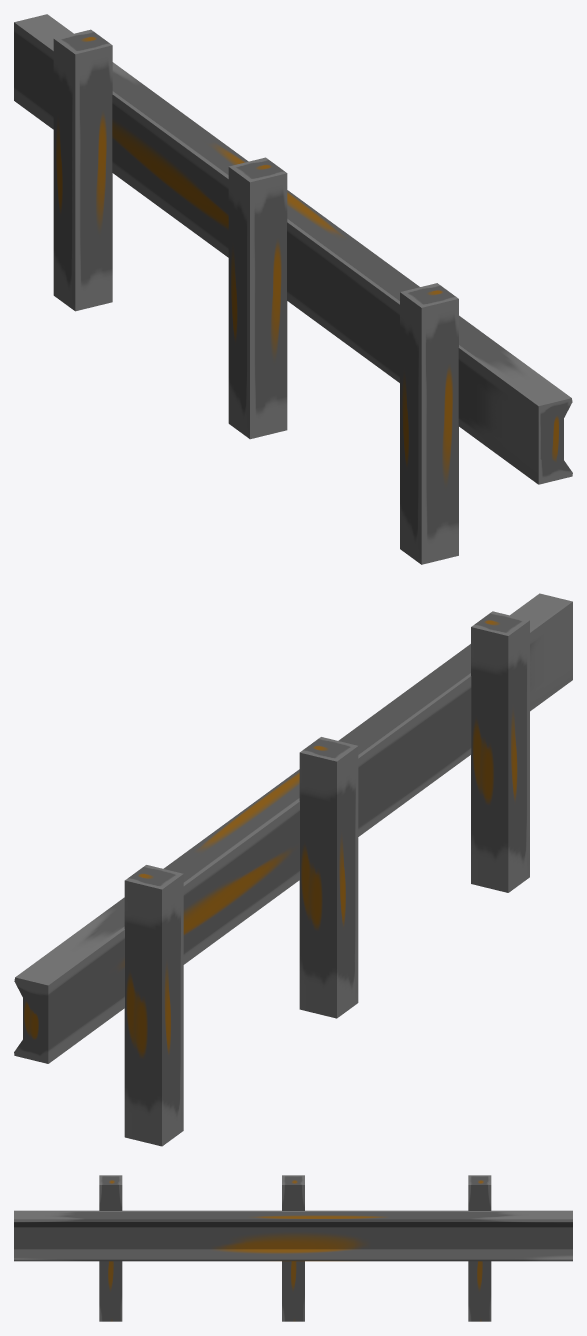
File: trackbarriersteel.fbx
The picture shows the model from 3 angles, top to bottom: view 1: azimuth 30°, elevation 25°; view 2: azimuth 150°, elevation 25°; view 3: azimuth 270°, elevation 25°; orthographic projection. The views are drawn at different scales.
Visible parts, largest first — view 1: Blockade, Post2, Post, Post3; view 2: Blockade, Post, Post2, Post3; view 3: Blockade, Post2, Post3, Post.
Boxes of the visible parts, <box> form: Blockade: <box>14,14,572,484</box>; Post2: <box>53,29,112,311</box>; Post: <box>228,157,287,439</box>; Post3: <box>400,283,458,564</box>; Blockade: <box>14,593,572,1063</box>; Post: <box>299,737,358,1018</box>; Post2: <box>124,865,183,1146</box>; Post3: <box>471,611,529,892</box>; Blockade: <box>14,1210,572,1261</box>; Post2: <box>468,1175,491,1321</box>; Post3: <box>99,1175,122,1321</box>; Post: <box>282,1175,304,1321</box>.
Bounding box in the file's own units: 190 × 654 × 2421.
Materials: 1 (1 with a texture image).
